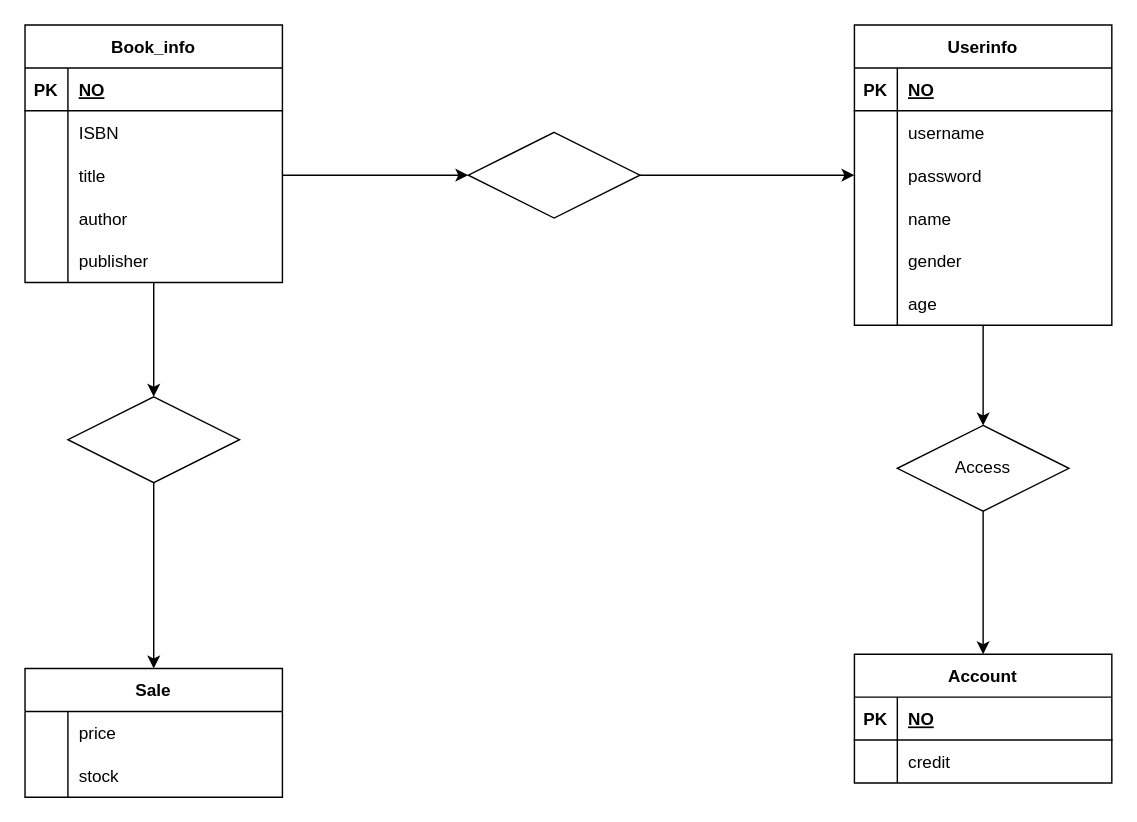
The diagram is 1137 pixels wide and 822 high, and some of its shapes have lost their labels. The shapes that lost their labels are listed below. From the top down, each one's box as (x1, y1, x2, y2) in pixels, then its label:
(467, 131, 640, 218): Order
(66, 395, 240, 483): Book_Sale
